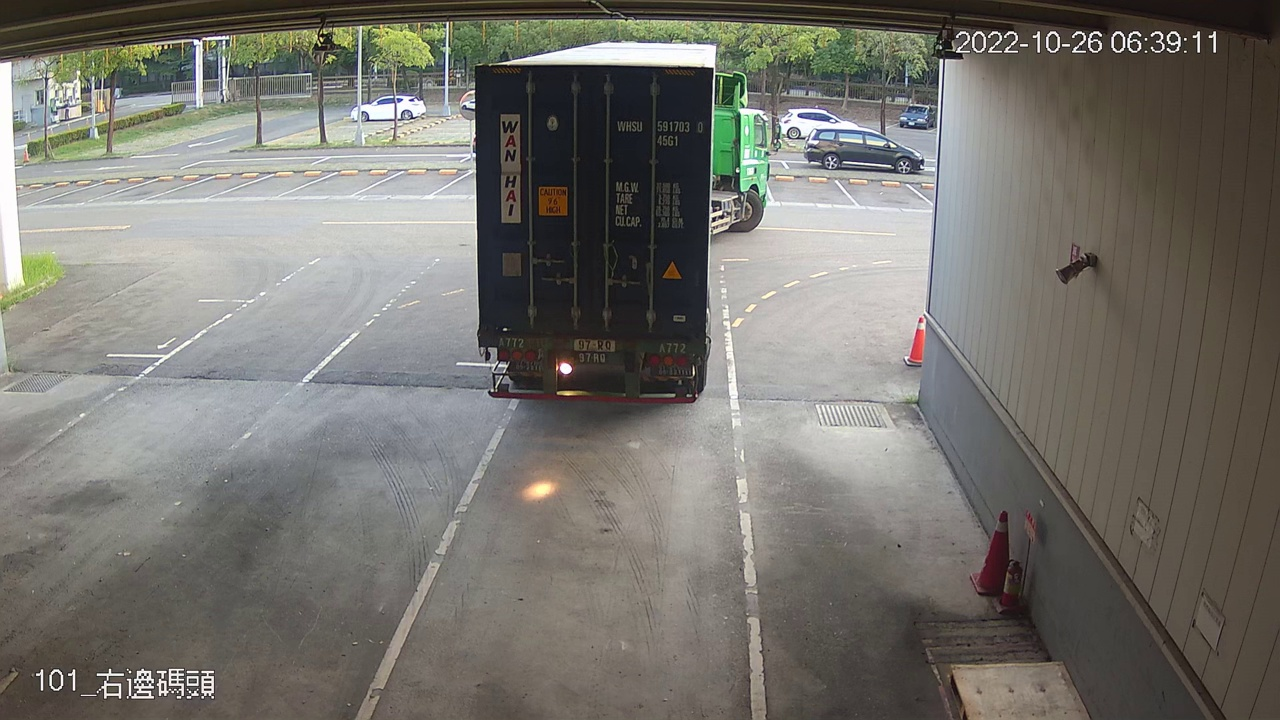container: (613, 114, 707, 153)
